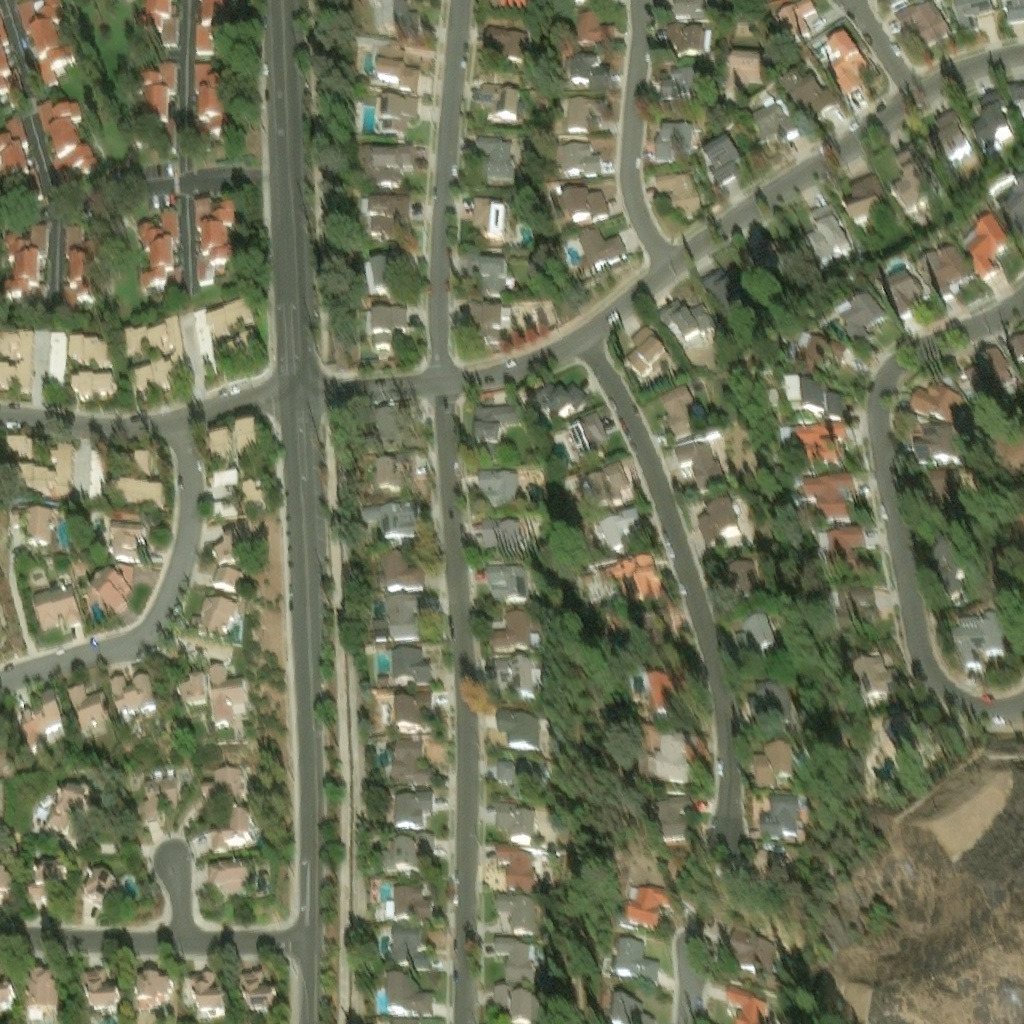0 no-damage: (34, 96, 100, 183), (119, 311, 185, 392), (0, 321, 64, 400), (192, 303, 257, 378), (17, 0, 68, 85), (8, 443, 71, 506), (193, 197, 237, 284), (133, 206, 179, 288), (955, 328, 1011, 394), (912, 230, 970, 289), (822, 43, 873, 108), (893, 6, 954, 60), (608, 563, 667, 616), (0, 217, 45, 286), (782, 80, 844, 130), (58, 218, 94, 303), (373, 596, 431, 648), (801, 201, 851, 261), (923, 532, 974, 590), (799, 433, 854, 486), (887, 141, 935, 201), (807, 483, 863, 534), (192, 64, 229, 141), (675, 442, 728, 495), (704, 273, 762, 321), (959, 203, 1007, 261), (950, 603, 1001, 657), (18, 696, 69, 749), (838, 292, 886, 348), (583, 466, 633, 519), (364, 46, 427, 88), (483, 610, 543, 654), (656, 303, 717, 346), (211, 673, 251, 738), (361, 194, 411, 246), (882, 712, 936, 760), (472, 406, 519, 461), (189, 600, 239, 651), (361, 407, 412, 457), (648, 728, 697, 780), (624, 329, 670, 384), (658, 388, 702, 445), (594, 515, 645, 564), (35, 588, 87, 636), (841, 171, 887, 225), (822, 534, 869, 586), (361, 144, 414, 190), (750, 109, 803, 155), (972, 95, 1013, 154), (88, 570, 134, 622), (580, 237, 632, 283), (68, 690, 113, 743), (138, 61, 176, 123), (627, 887, 675, 936), (111, 682, 161, 729), (696, 499, 742, 550), (566, 417, 611, 469), (360, 506, 421, 544), (790, 393, 847, 433), (651, 791, 694, 844), (363, 248, 405, 302), (835, 593, 881, 642), (775, 3, 820, 53), (878, 261, 922, 312), (0, 107, 32, 177), (536, 385, 592, 425), (366, 311, 409, 363), (705, 145, 747, 198), (657, 181, 705, 227), (853, 661, 904, 704), (714, 978, 762, 1023), (798, 344, 848, 387), (746, 840, 788, 891), (371, 456, 418, 501), (652, 672, 697, 719), (43, 780, 91, 824), (726, 923, 778, 963), (719, 559, 765, 604), (910, 419, 957, 463), (380, 836, 434, 874), (0, 5, 23, 93), (478, 73, 522, 119), (393, 740, 436, 787), (725, 56, 767, 104), (474, 132, 513, 183), (493, 937, 536, 983), (926, 116, 969, 162), (909, 378, 958, 418), (559, 197, 613, 233), (733, 616, 778, 659), (387, 929, 433, 971), (236, 970, 279, 1014), (487, 562, 531, 605), (755, 780, 796, 826), (659, 68, 706, 108), (195, 0, 229, 55), (375, 95, 418, 138), (493, 658, 536, 701), (481, 12, 526, 53), (466, 253, 507, 298), (477, 471, 522, 512), (663, 21, 712, 58), (748, 734, 791, 776), (188, 971, 228, 1016), (386, 979, 433, 1017), (26, 972, 61, 1023), (143, 771, 180, 819), (385, 890, 434, 926), (619, 948, 661, 990), (383, 556, 427, 596), (495, 845, 534, 890), (209, 865, 255, 903), (497, 756, 544, 793), (493, 986, 540, 1023), (928, 465, 965, 511), (563, 148, 605, 188), (563, 54, 606, 93), (26, 854, 66, 895), (395, 791, 435, 832), (954, 0, 994, 41), (395, 692, 434, 734), (482, 520, 524, 559), (747, 678, 789, 717), (471, 195, 506, 241), (78, 863, 119, 902), (211, 817, 253, 855), (469, 301, 504, 346), (109, 522, 146, 564), (496, 707, 538, 744), (202, 773, 245, 809), (82, 972, 118, 1015), (996, 172, 1023, 229), (373, 0, 418, 34), (494, 802, 535, 839), (573, 7, 614, 44), (655, 132, 694, 170), (750, 243, 790, 280), (393, 651, 432, 688), (14, 519, 55, 554), (495, 895, 533, 932), (212, 528, 247, 568), (998, 305, 1023, 360), (566, 101, 604, 137), (135, 0, 172, 36), (136, 972, 170, 1010), (68, 365, 115, 392), (66, 327, 108, 357), (86, 447, 106, 510), (111, 442, 154, 470), (112, 475, 160, 500), (176, 682, 209, 718), (211, 568, 243, 597), (235, 421, 258, 460), (224, 335, 260, 358), (672, 0, 720, 17), (615, 1004, 656, 1023), (241, 476, 264, 508), (647, 623, 675, 647), (207, 426, 228, 457), (1007, 88, 1023, 124), (211, 465, 237, 481), (211, 495, 235, 511), (1009, 0, 1023, 27), (0, 989, 15, 1014), (0, 865, 11, 897), (885, 0, 907, 14)
